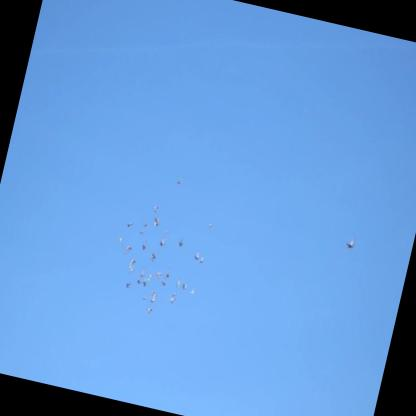bird: (344, 233, 360, 253), (158, 236, 167, 249), (152, 214, 160, 228), (123, 244, 133, 255), (177, 237, 186, 249), (151, 204, 160, 215), (139, 267, 147, 279), (146, 272, 154, 284), (176, 177, 184, 187), (193, 251, 201, 261), (128, 259, 136, 269), (163, 268, 170, 279), (136, 276, 143, 287), (141, 239, 147, 251), (151, 252, 159, 261), (181, 283, 189, 292), (160, 279, 168, 288), (146, 306, 154, 315), (125, 280, 132, 290), (141, 277, 147, 288), (170, 296, 177, 305), (176, 278, 182, 288), (198, 257, 204, 266), (156, 271, 162, 280), (151, 291, 158, 298), (118, 237, 124, 244), (149, 297, 155, 303), (142, 223, 149, 228), (164, 229, 169, 236), (126, 222, 133, 227), (140, 230, 145, 237), (151, 256, 156, 263), (129, 267, 134, 274), (189, 289, 194, 296), (142, 295, 147, 302), (207, 222, 212, 227)
